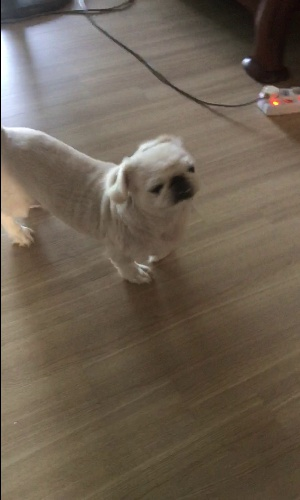ddubi: (1, 119, 203, 287)
